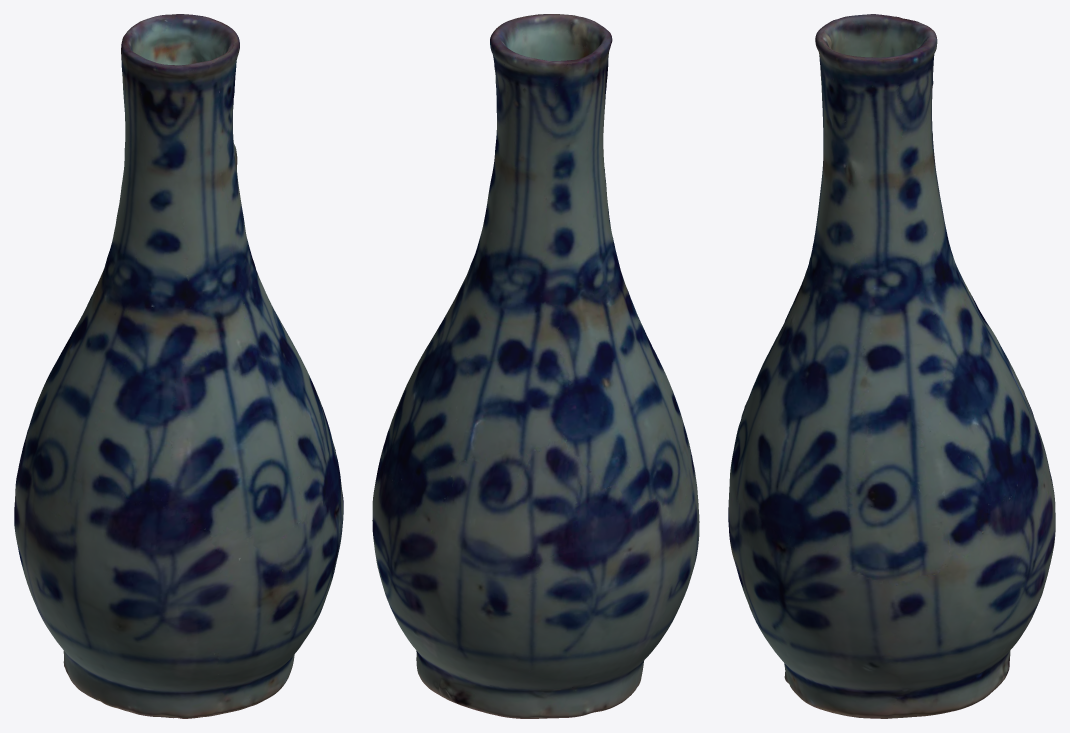
The model's file is florero_llorente.glb.
3 renders of one model, left to right at view 1: azimuth 30°, elevation 25°; view 2: azimuth 150°, elevation 25°; view 3: azimuth 270°, elevation 25°, orthographic.
Parts seen in each view (by area): view 1: Object_2; view 2: Object_2; view 3: Object_2.
Boxes of the visible parts, x1,y1,x2,y2 form: Object_2: [14, 14, 343, 718]; Object_2: [372, 14, 699, 718]; Object_2: [728, 14, 1055, 718].
Size of the model in its own units: 76.06 by 165 by 76.19.
Materials: 1 (1 with a texture image).
